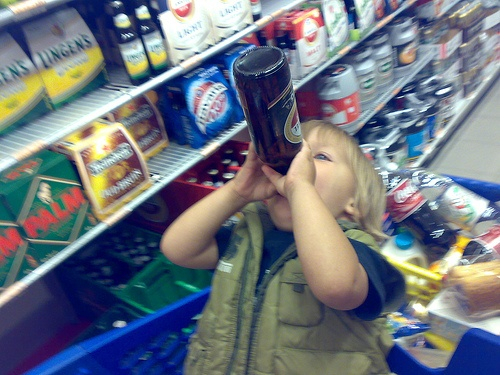head: (265, 118, 386, 232)
person: (163, 114, 436, 375)
